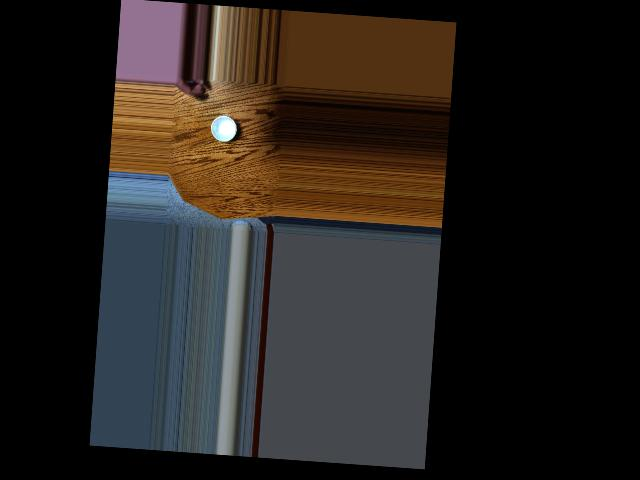cotage: (207, 112, 237, 144)
